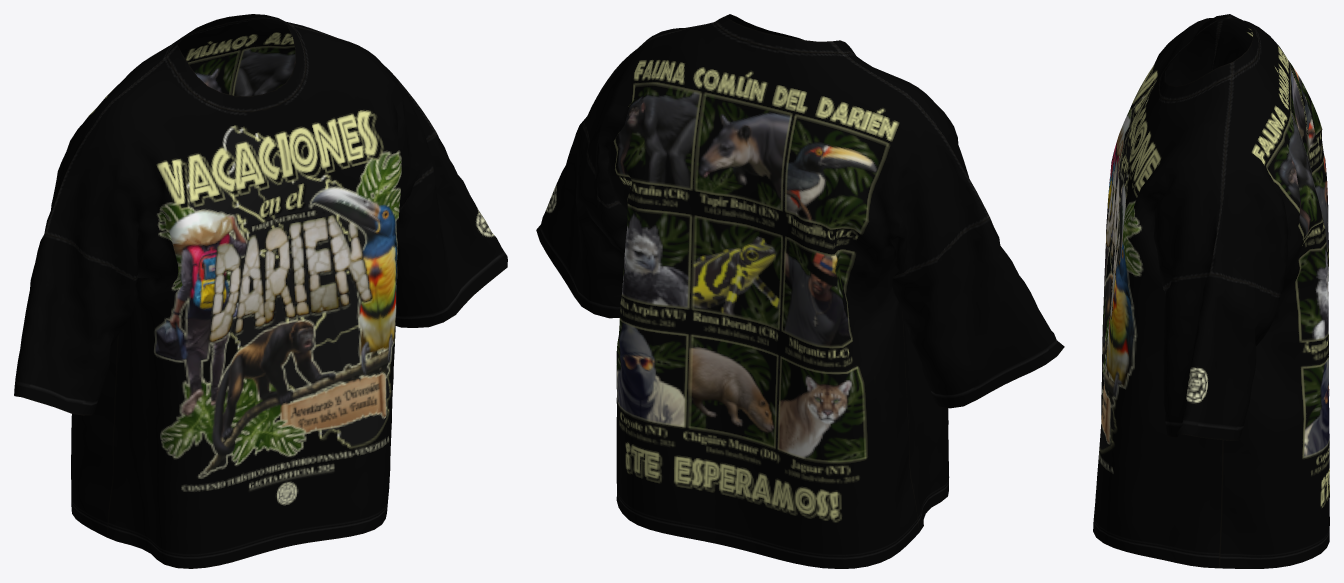
File: DARIEN.glb
3 renders of one model, left to right at view 1: azimuth 30°, elevation 25°; view 2: azimuth 150°, elevation 25°; view 3: azimuth 270°, elevation 25°, orthographic. The views are drawn at different scales.
Visible parts, largest first — view 1: Cloth.001; view 2: Cloth.001; view 3: Cloth.001.
Boxes of the visible parts, bbox=[...] form: Cloth.001: bbox=[14, 14, 507, 568]; Cloth.001: bbox=[536, 14, 1064, 568]; Cloth.001: bbox=[1093, 14, 1329, 568].
Size of the model in its own units: 0.7614 by 0.6918 by 0.3149.
1 material, 1 textured.
